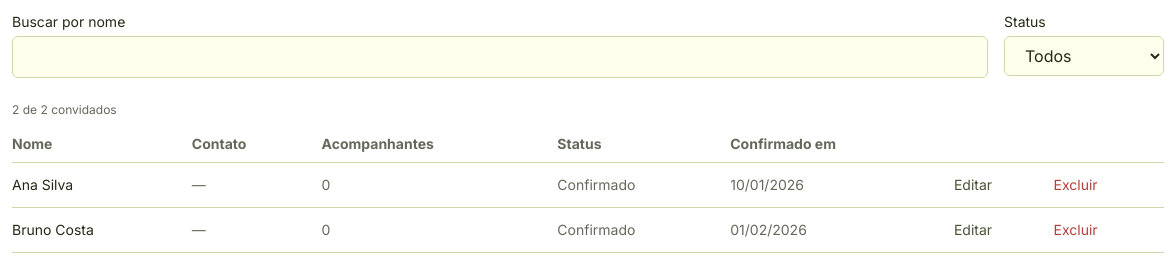
Test: GuestsTable › shows a sort arrow on the Confirmado em header that matches the displayed order
The width and height of the screenshot is (1176, 270).
Click the button "Confirmado em": [783, 144] box [730,134,836,154]
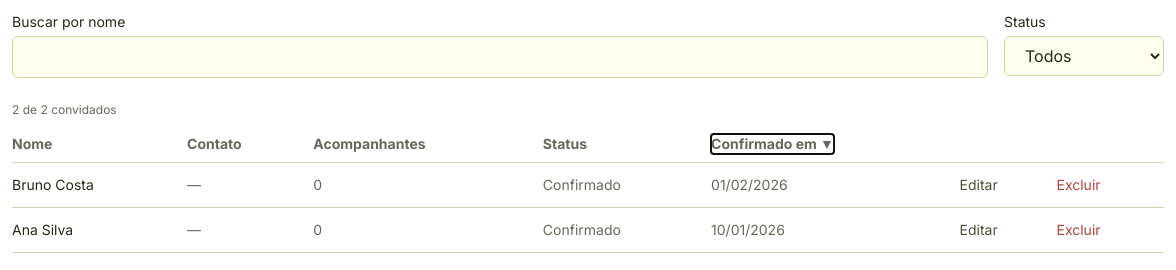
Expected: the button "Confirmado em ▼" is shown
Click the button "Confirmado em ▼": [773, 144] box [711,134,834,154]
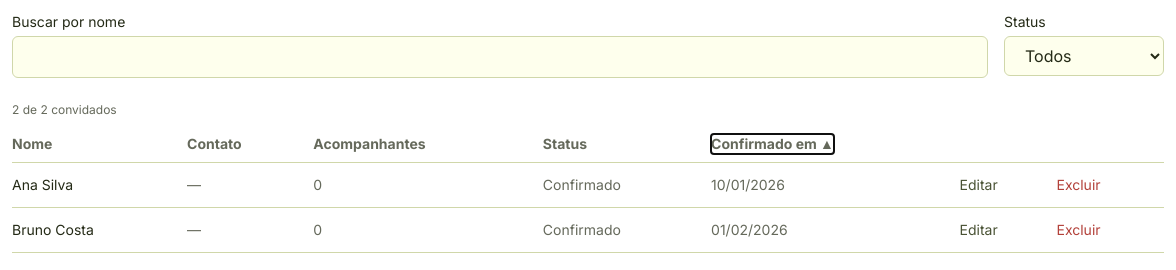
Expected: the button "Confirmado em ▲" is shown, [711,134,834,154]
